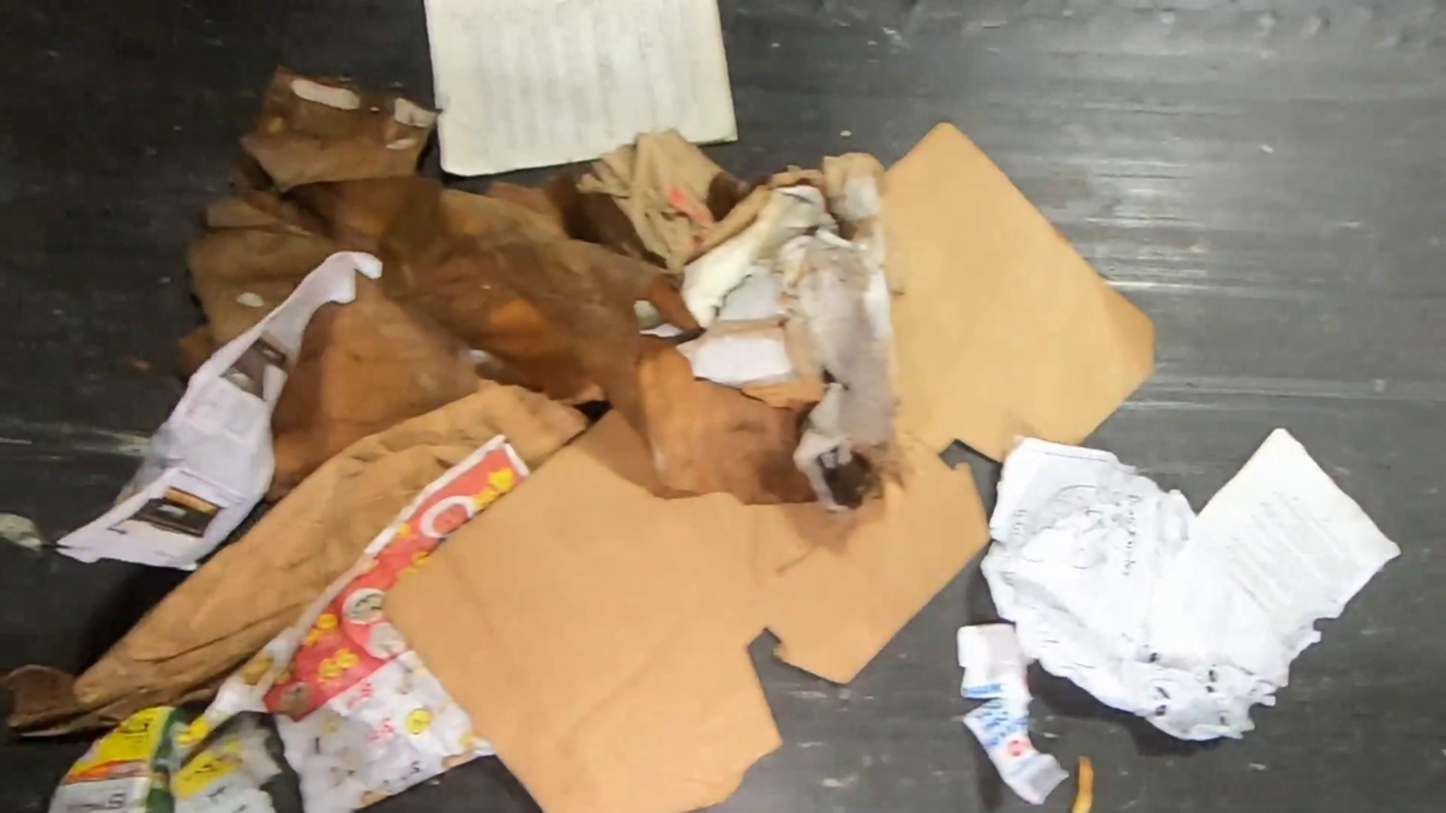cardboard: (377, 119, 1159, 813), (0, 374, 597, 742), (670, 150, 886, 415), (571, 125, 756, 273)
